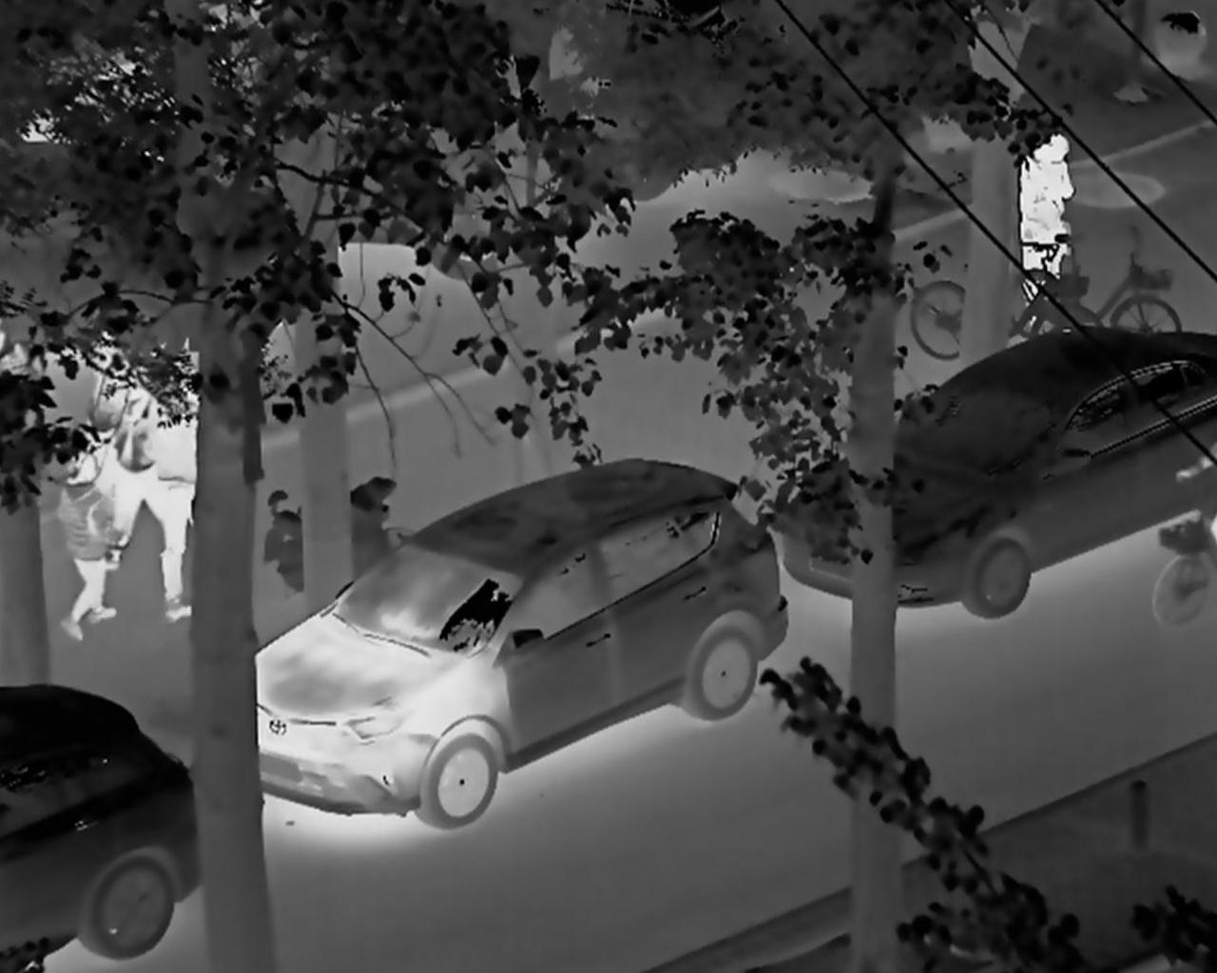person: (1018, 130, 1098, 327), (60, 451, 126, 636)
